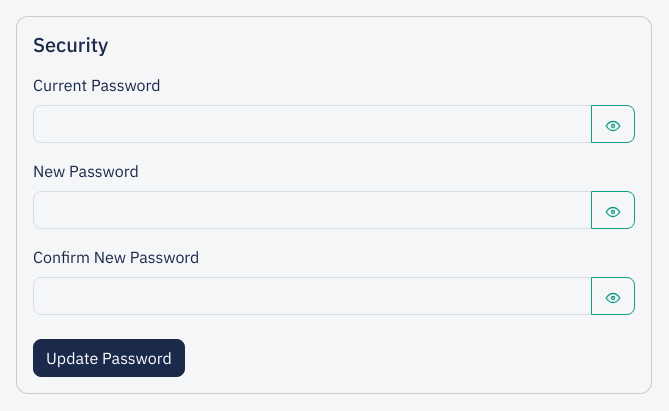
Test: SettingsPage › toggles each password field visibility independently
Click the 1st button named "show password": (613, 124) x1=591 y1=105 x2=635 y2=143
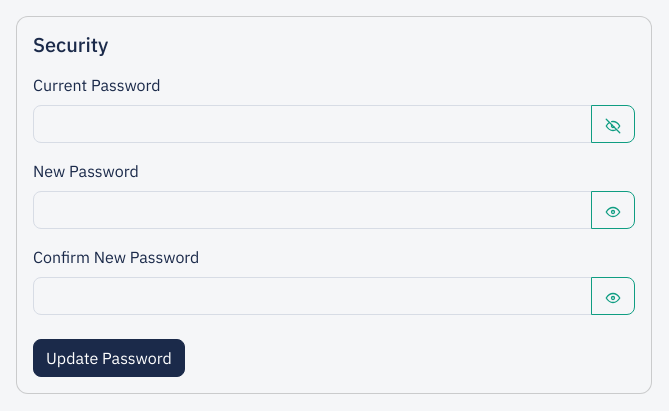
expect the button named "hide password" is shown: met, box x1=591 y1=105 x2=635 y2=143
